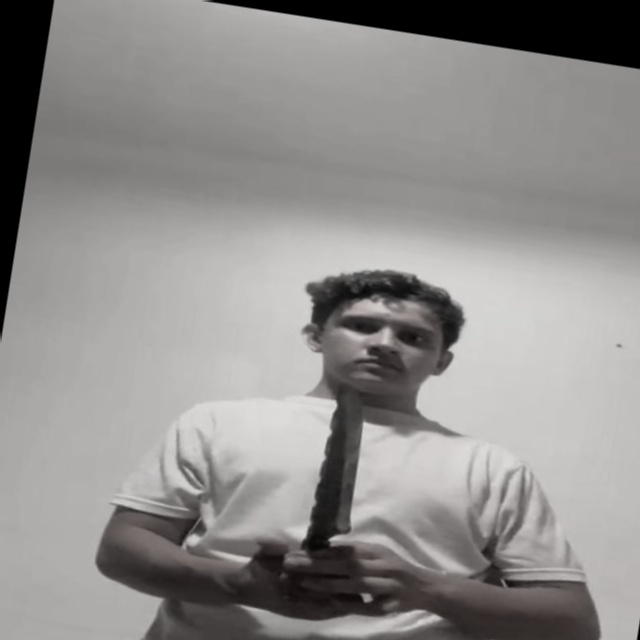Sharp-Object: (306, 381, 375, 543)
